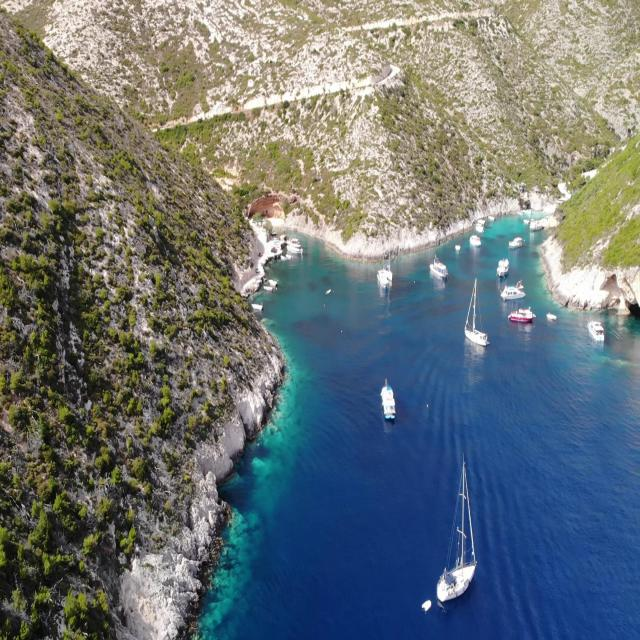boat: (380, 380, 396, 422), (500, 278, 528, 302), (586, 316, 606, 348), (429, 255, 451, 283), (507, 304, 535, 324), (287, 237, 305, 254), (377, 270, 389, 289), (421, 597, 433, 615), (546, 309, 558, 323), (251, 300, 263, 312), (264, 284, 274, 294), (269, 278, 277, 289), (324, 287, 332, 297)
bouy: (323, 302, 326, 308), (341, 327, 343, 334), (426, 404, 428, 409), (414, 280, 416, 284)
sailboat: (437, 447, 479, 605), (464, 277, 489, 351), (383, 225, 393, 282)
